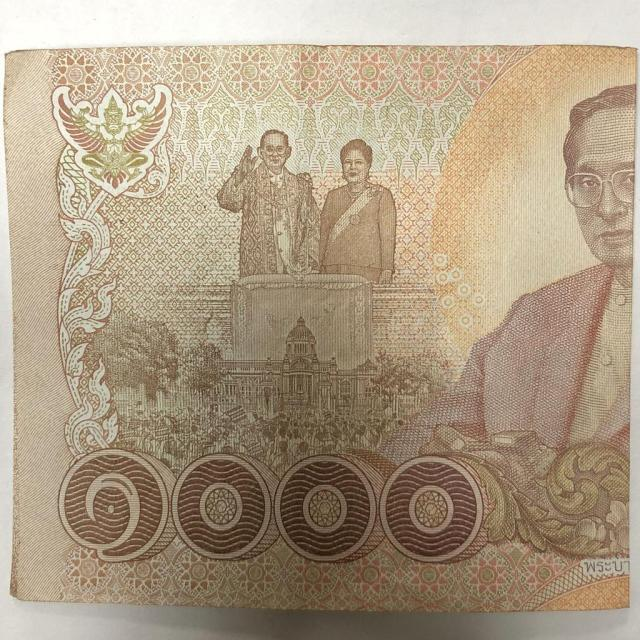THAI1000: (6, 45, 636, 611)
